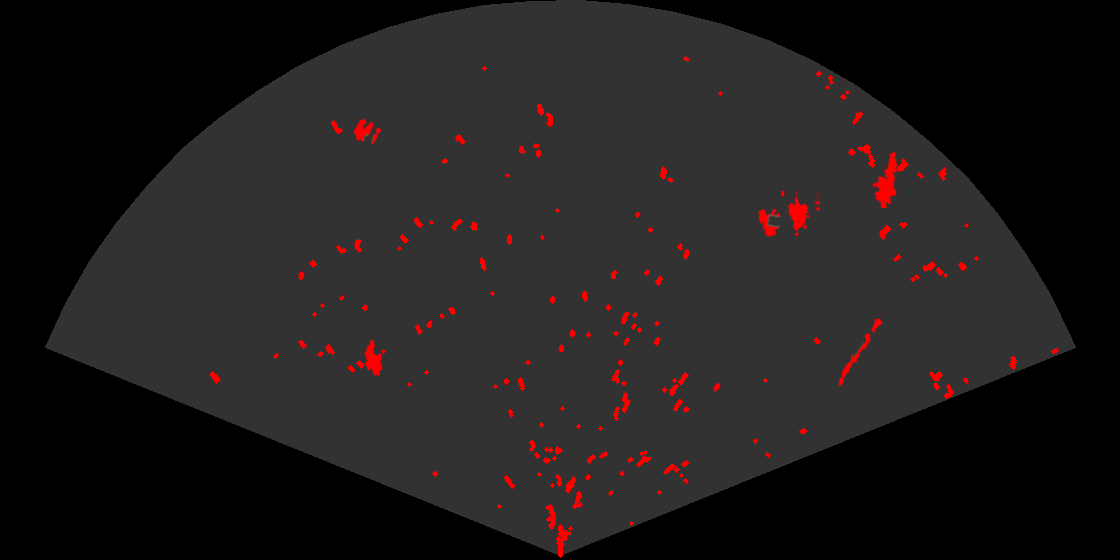AUV: (363, 338, 384, 378)
ball: (352, 117, 383, 146)
cage: (756, 191, 820, 239)
chain: (837, 308, 889, 388)
frogman: (870, 149, 899, 208)
